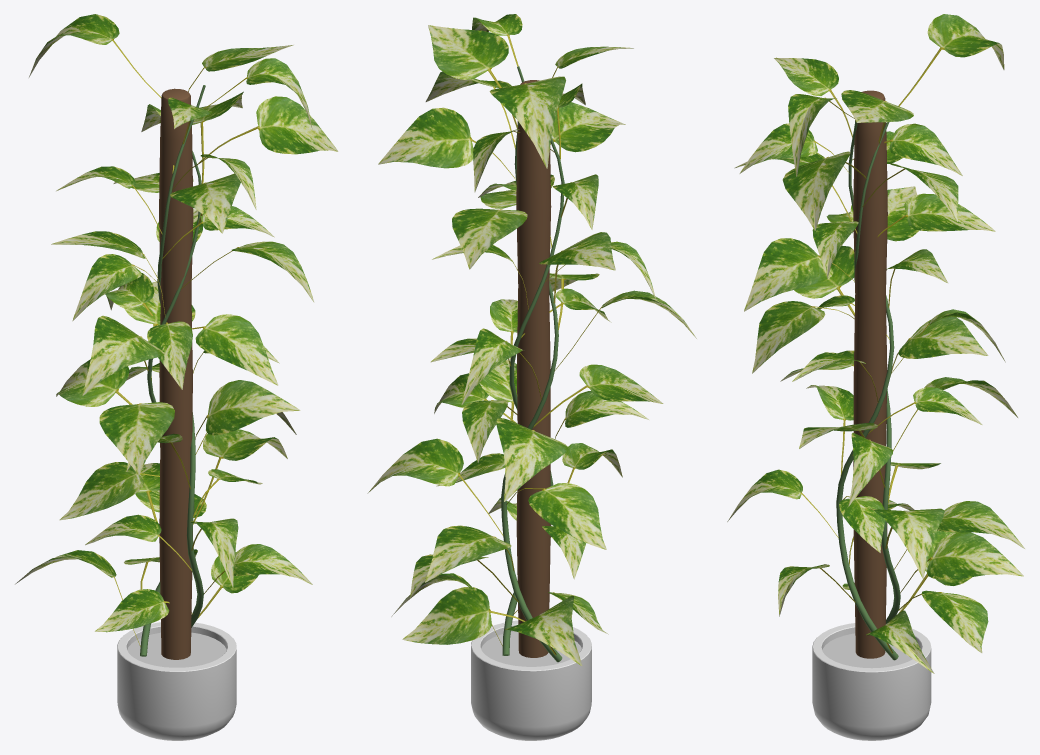
Rendered from plant3.fbx.
3 renders of one model, left to right at view 1: azimuth 30°, elevation 25°; view 2: azimuth 150°, elevation 25°; view 3: azimuth 270°, elevation 25°, orthographic.
Parts seen in each view (by area): view 1: Epipremium.002, Epipremium.001; view 2: Epipremium.002, Epipremium.001; view 3: Epipremium.002, Epipremium.001.
Boxes of the visible parts, x1,y1,x2,y2 form: Epipremium.002: (15, 14, 338, 659); Epipremium.001: (117, 622, 236, 740); Epipremium.002: (367, 14, 696, 665); Epipremium.001: (471, 620, 591, 740); Epipremium.002: (727, 14, 1024, 673); Epipremium.001: (812, 623, 931, 740).
Size of the model in its own units: 57.31 by 140 by 56.16.
